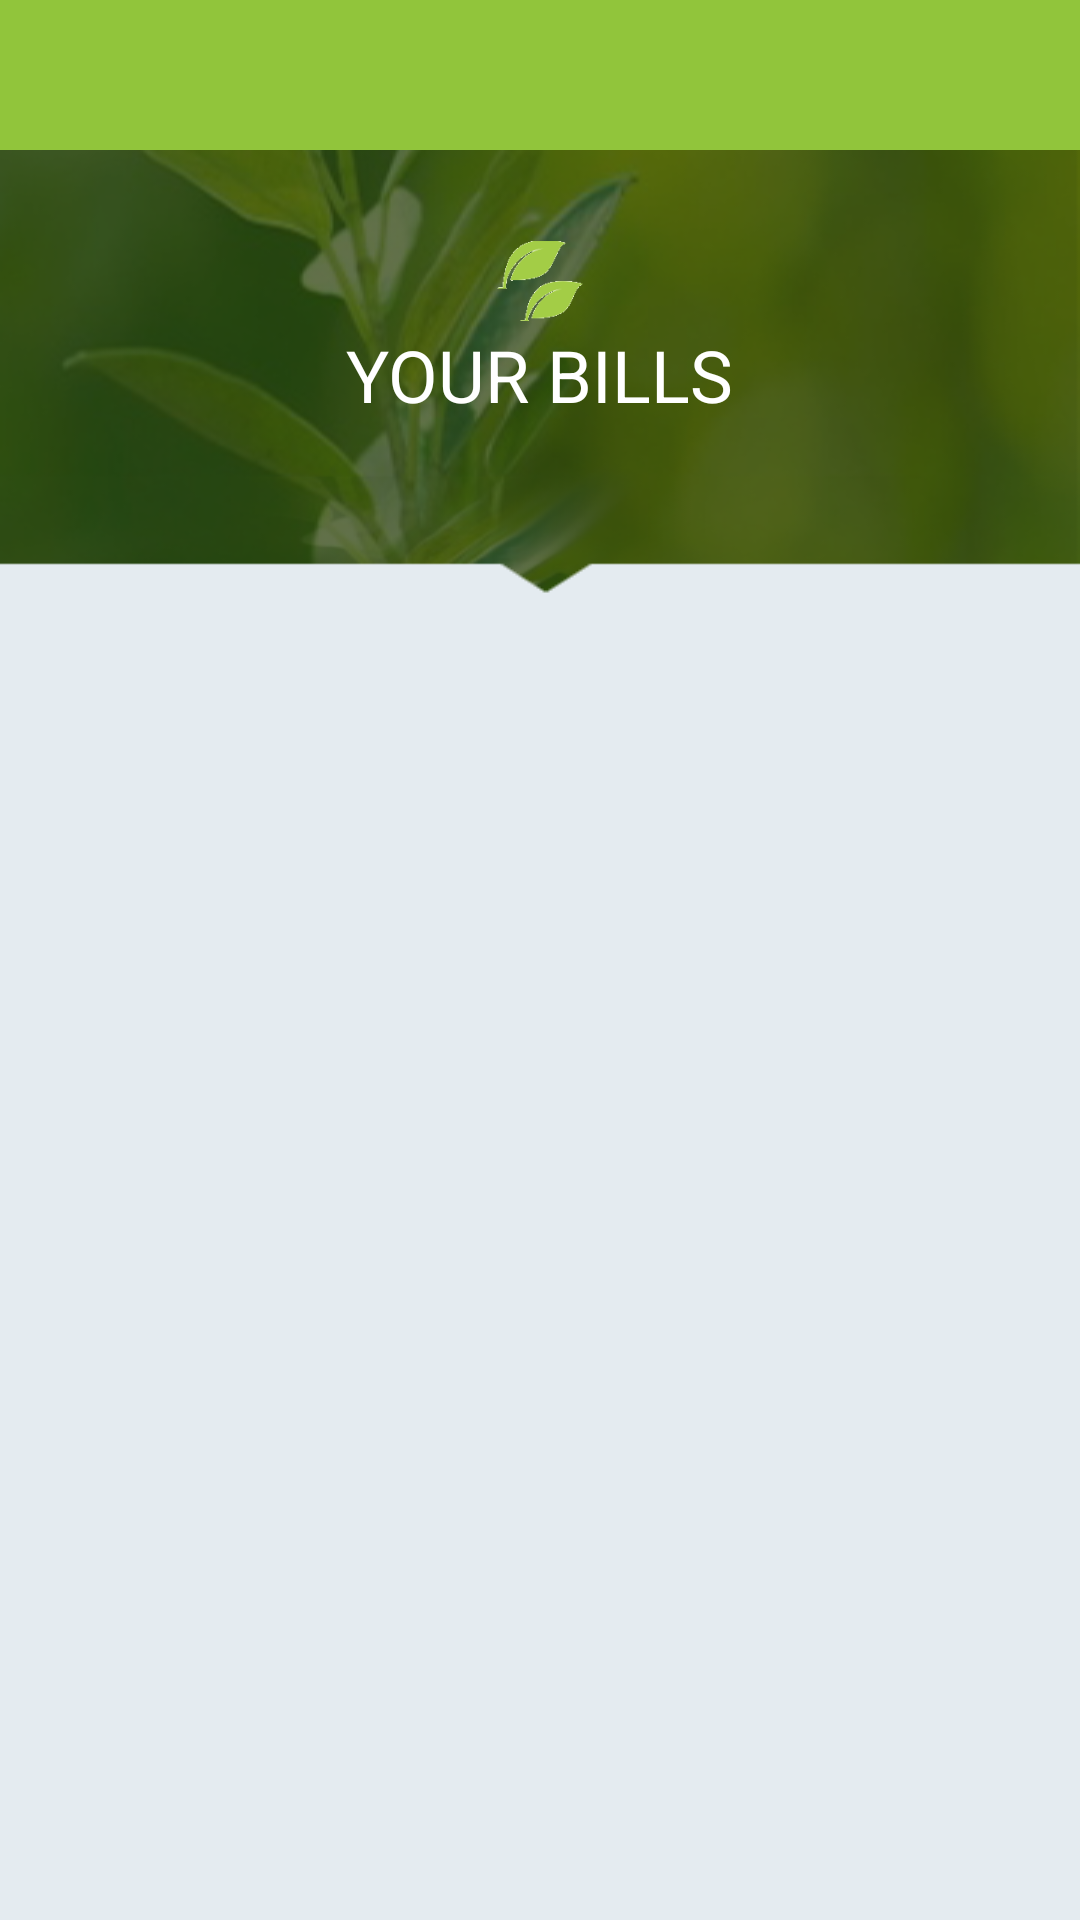

Point at icon controls on the screen. Image size 1080 × 1920, points as (x=x, y=y).
page nameleaf: (x=540, y=281)
